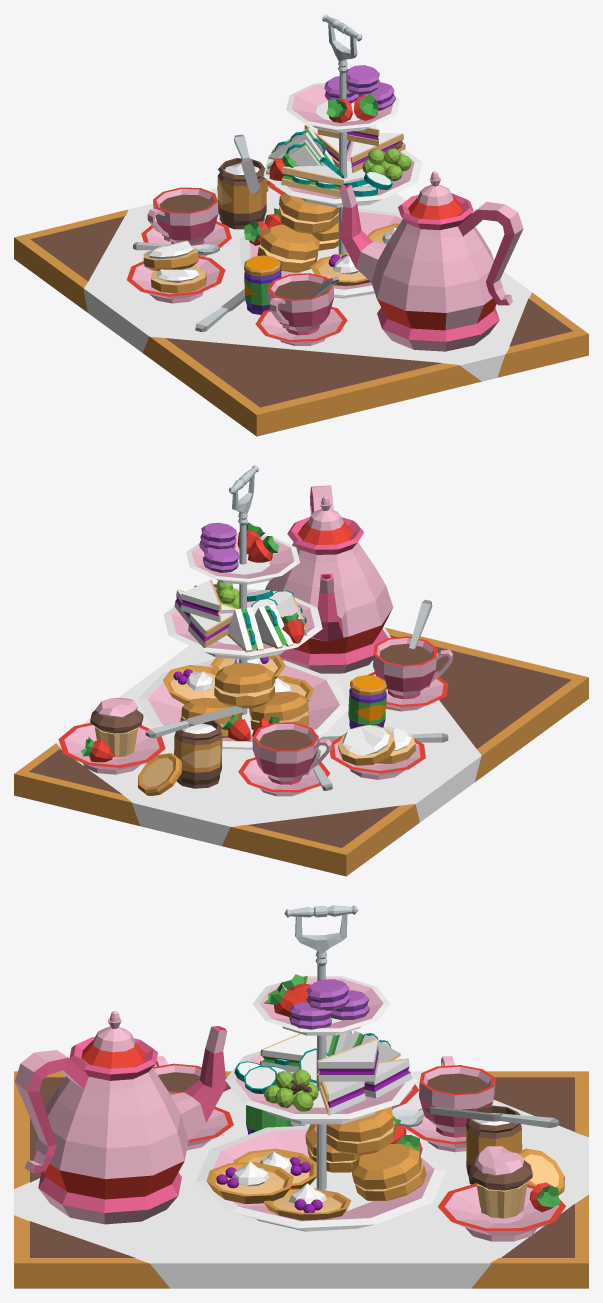
File: dessert2.glb
3 views of the same model, one above another, from view 1: azimuth 30°, elevation 25°; view 2: azimuth 150°, elevation 25°; view 3: azimuth 270°, elevation 25° (orthographic). The views are drawn at different scales.
Parts seen in each view (by area): view 1: group1423952188; view 2: group1423952188, group309399912; view 3: group1423952188, group309399912.
Boxes of the visible parts, x1,y1,x2,y2 form: group1423952188: (14, 14, 588, 436); group1423952188: (14, 465, 588, 876); group309399912: (163, 665, 216, 704); group1423952188: (14, 905, 588, 1288); group309399912: (263, 1183, 351, 1220).
Size of the model in its own units: 2.26 by 1.73 by 2.86.
